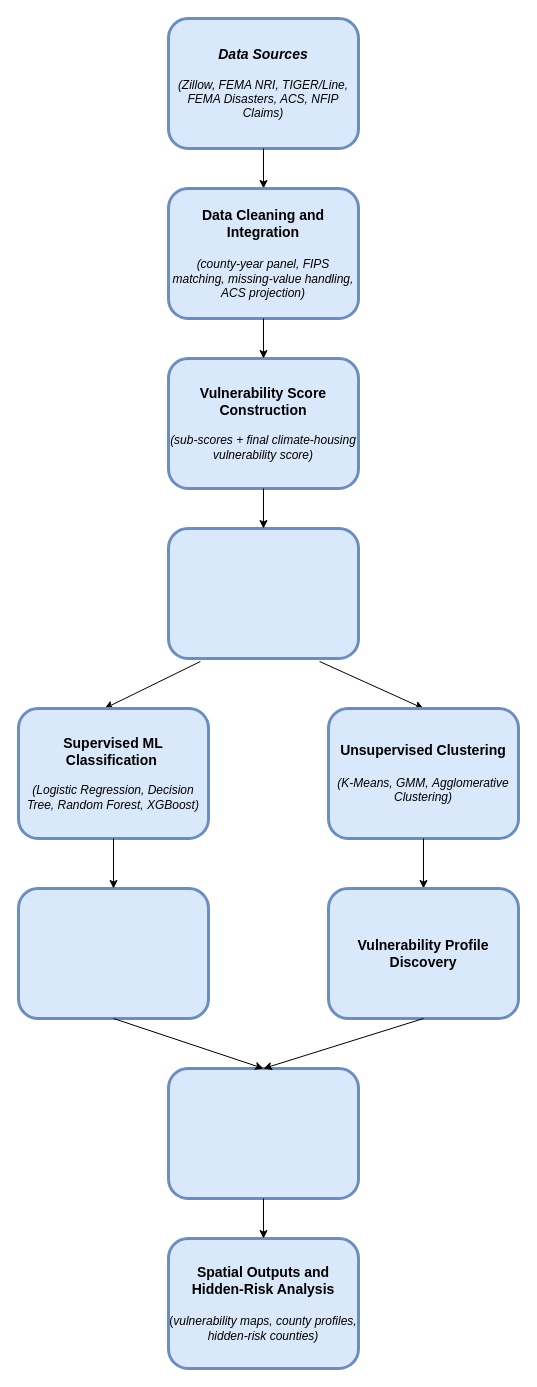
Image size: 537x1387. Some labels were removed from this diagram. The shapes that lost their labels are listed below. From the top down, each one's box as (x1, y1, x2, y2) in pixels, then its label:
(166, 526, 360, 660): Low / Medium / High Vulnerability Classes
(16, 886, 210, 1020): Feature Group Comparison
(166, 1066, 360, 1200): SHAP / XAI Interpretation (feature importance + model explanations)
